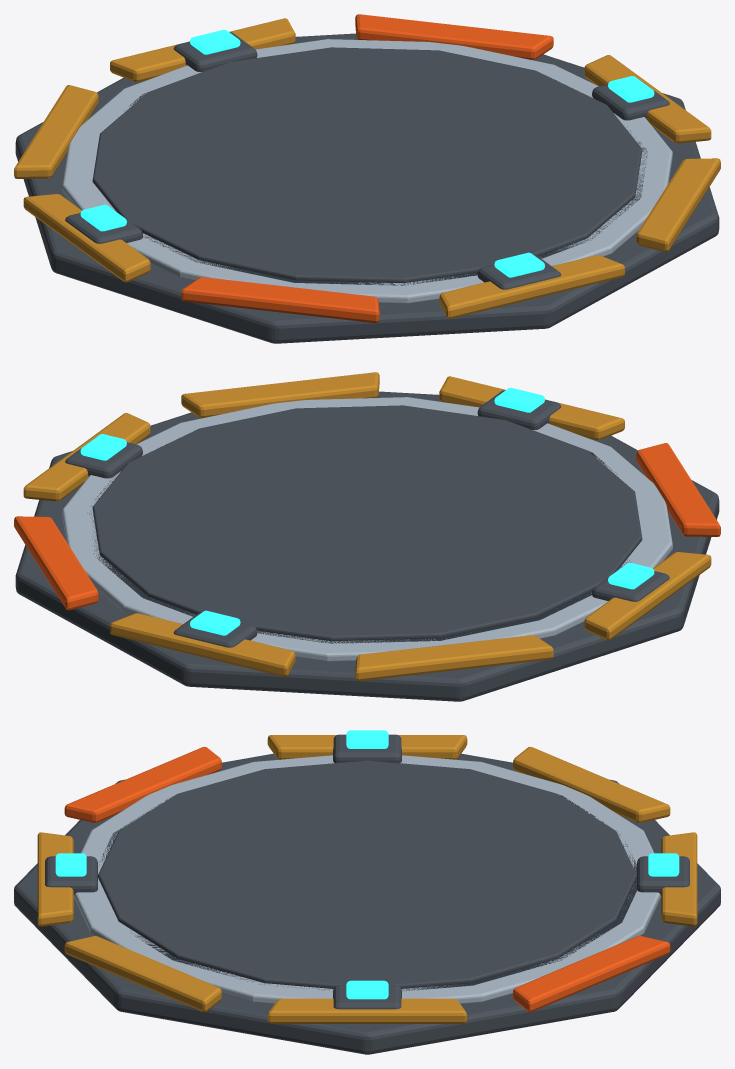
The model's file is SM_MiningSlot_Base_A.fbx.
3 views of the same model, one above another, from view 1: azimuth 30°, elevation 25°; view 2: azimuth 150°, elevation 25°; view 3: azimuth 270°, elevation 25° (orthographic). The views are drawn at different scales.
Parts seen in each view (by area): view 1: SM_MiningSlot_Base_A.001; view 2: SM_MiningSlot_Base_A.001; view 3: SM_MiningSlot_Base_A.001.
Part boxes in pixels (x1,y1,x2,y2): SM_MiningSlot_Base_A.001: (14,14,720,343); SM_MiningSlot_Base_A.001: (14,372,720,701); SM_MiningSlot_Base_A.001: (14,730,720,1054).
Bounding box in the file's own units: 637 × 637 × 46.
